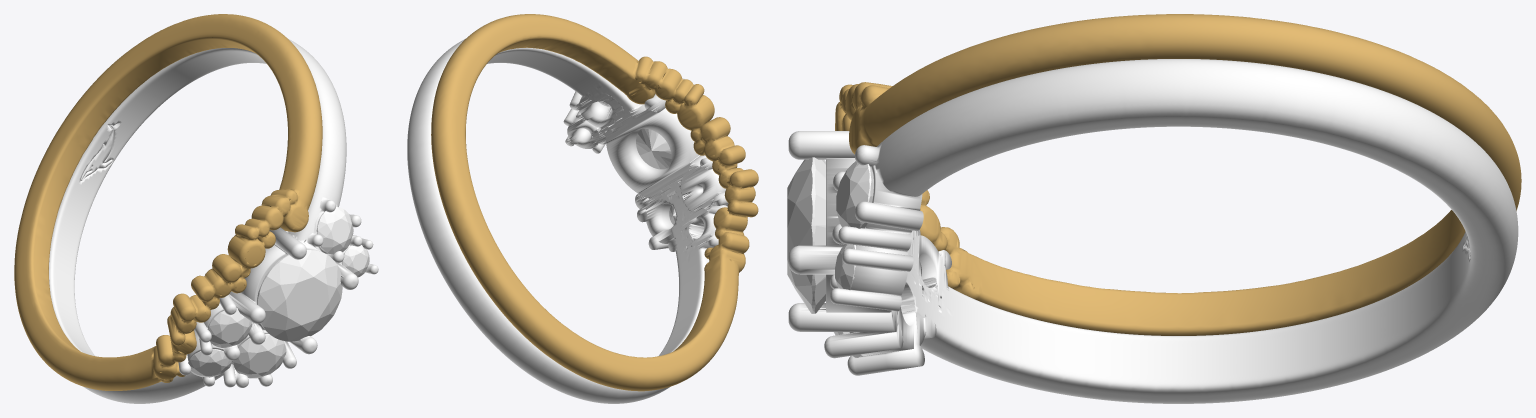
Rendered from model_diamond-ring1.glb.
3 views of the same model, side by side, from view 1: azimuth 30°, elevation 25°; view 2: azimuth 150°, elevation 25°; view 3: azimuth 270°, elevation 25° (orthographic). The views are drawn at different scales.
Parts seen in each view (by area): view 1: gold, silver, diamonds; view 2: gold, silver, diamonds; view 3: silver, gold, diamonds.
Boxes of the visible parts, left/top/right/bottom form: gold: left=14, top=14, right=322, bottom=390; silver: left=49, top=39, right=378, bottom=403; diamonds: left=188, top=207, right=369, bottom=378; gold: left=431, top=14, right=758, bottom=391; silver: left=407, top=39, right=728, bottom=403; diamonds: left=599, top=101, right=676, bottom=224; silver: left=788, top=59, right=1518, bottom=403; gold: left=835, top=14, right=1521, bottom=335; diamonds: left=787, top=157, right=873, bottom=357.
Size of the model in its own units: 1.89 by 2.24 by 2.81.
